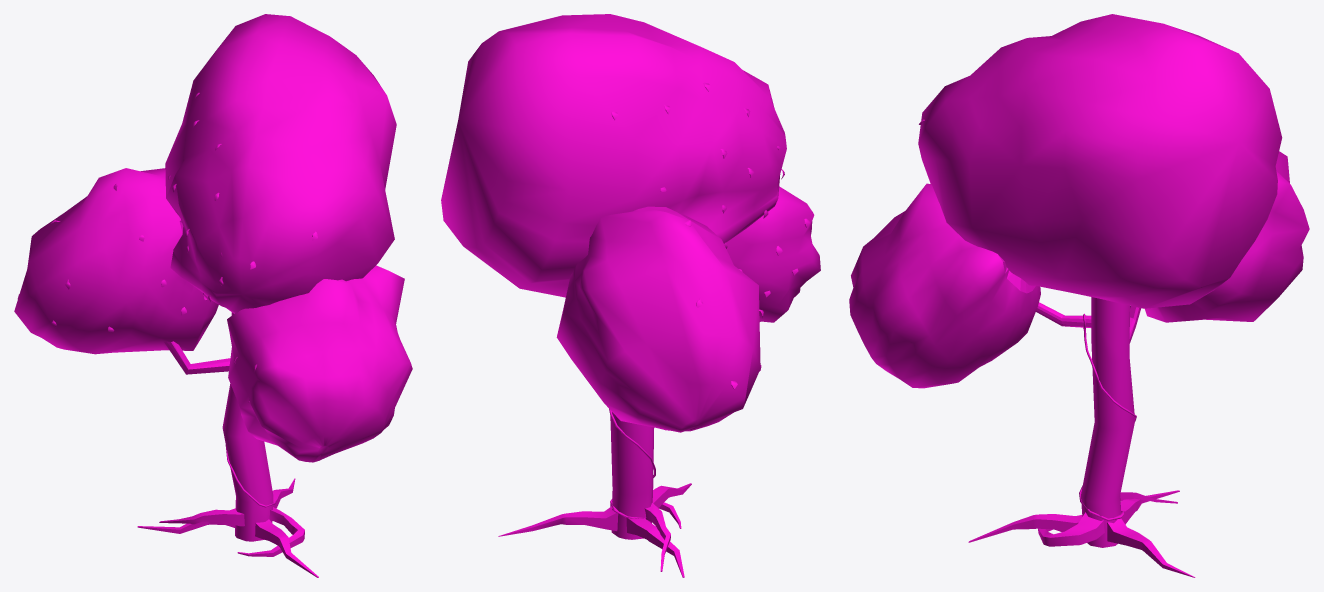
The model's file is A_Arbre2.fbx.
3 views of the same model, side by side, from view 1: azimuth 30°, elevation 25°; view 2: azimuth 150°, elevation 25°; view 3: azimuth 270°, elevation 25° (orthographic). The views are drawn at different scales.
Visible parts, largest first — view 1: Feuilles; view 2: Feuilles; view 3: Feuilles.
Boxes of the visible parts, <box> form: Feuilles: <box>14,14,412,577</box>; Feuilles: <box>441,14,820,577</box>; Feuilles: <box>849,14,1309,577</box>.
Size of the model in its own units: 253 by 367 by 287.
